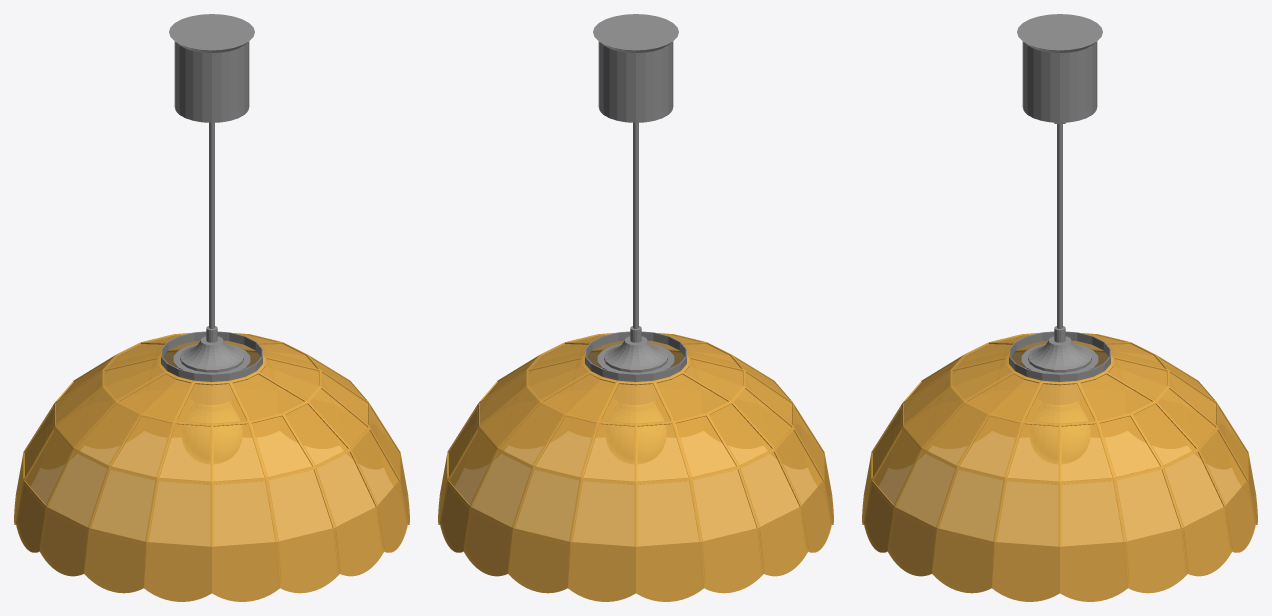
The model's file is lamp.dae.
3 views of the same model, side by side, from view 1: azimuth 30°, elevation 25°; view 2: azimuth 150°, elevation 25°; view 3: azimuth 270°, elevation 25° (orthographic).
Parts seen in each view (by area): view 1: Group_003, Facette_23, Facette_24, Facette_10, Facette_11, Facette_22, Facette_55, Facette_13, Facette_1_, Facette_52, Facette_56, Facette_37 (+25 smaller); view 2: Group_003, Facette_27, Facette_47, Facette_28, Facette_67, Facette_25, Facette_26, Facette_58, Facette_17, Facette_57, Facette_68, Facette_19 (+25 smaller); view 3: Group_003, Facette_2_, Facette_20, Facette_62, Facette_63, Facette_21, Facette_29, Facette_64, Facette_61, Facette_50, Facette_66, Facette_32 (+25 smaller).
Part boxes in pixels (box(x1,y1,x2,y2)): Group_003: box(169, 14, 254, 372); Facette_23: box(212, 477, 277, 546); Facette_24: box(146, 477, 211, 546); Facette_10: box(212, 542, 279, 601); Facette_11: box(144, 542, 211, 601); Facette_22: box(266, 466, 334, 541); Facette_55: box(89, 466, 157, 541); Facette_13: box(84, 528, 146, 593); Facette_1_: box(277, 528, 339, 593); Facette_52: box(314, 448, 377, 527); Facette_56: box(46, 448, 109, 527); Facette_37: box(212, 422, 266, 481); Group_003: box(593, 14, 678, 372); Facette_27: box(636, 477, 701, 546); Facette_47: box(570, 477, 635, 546); Facette_28: box(636, 542, 703, 601); Facette_67: box(568, 542, 635, 601); Facette_25: box(690, 466, 758, 541); Facette_26: box(513, 466, 581, 541); Facette_58: box(508, 528, 570, 593); Facette_17: box(701, 528, 763, 593); Facette_57: box(738, 448, 801, 527); Facette_68: box(470, 448, 533, 527); Facette_19: box(581, 422, 635, 481); Group_003: box(1017, 14, 1102, 372); Facette_2_: box(1060, 477, 1125, 546); Facette_20: box(994, 477, 1059, 546); Facette_62: box(1060, 542, 1127, 601); Facette_63: box(992, 542, 1059, 601); Facette_21: box(937, 466, 1005, 541); Facette_29: box(1114, 466, 1182, 541); Facette_64: box(932, 528, 994, 593); Facette_61: box(1125, 528, 1187, 593); Facette_50: box(894, 448, 957, 527); Facette_66: box(1162, 448, 1225, 527); Facette_32: box(1060, 422, 1114, 481).
Bounding box in the file's own units: 64.69 × 87.33 × 64.3.
